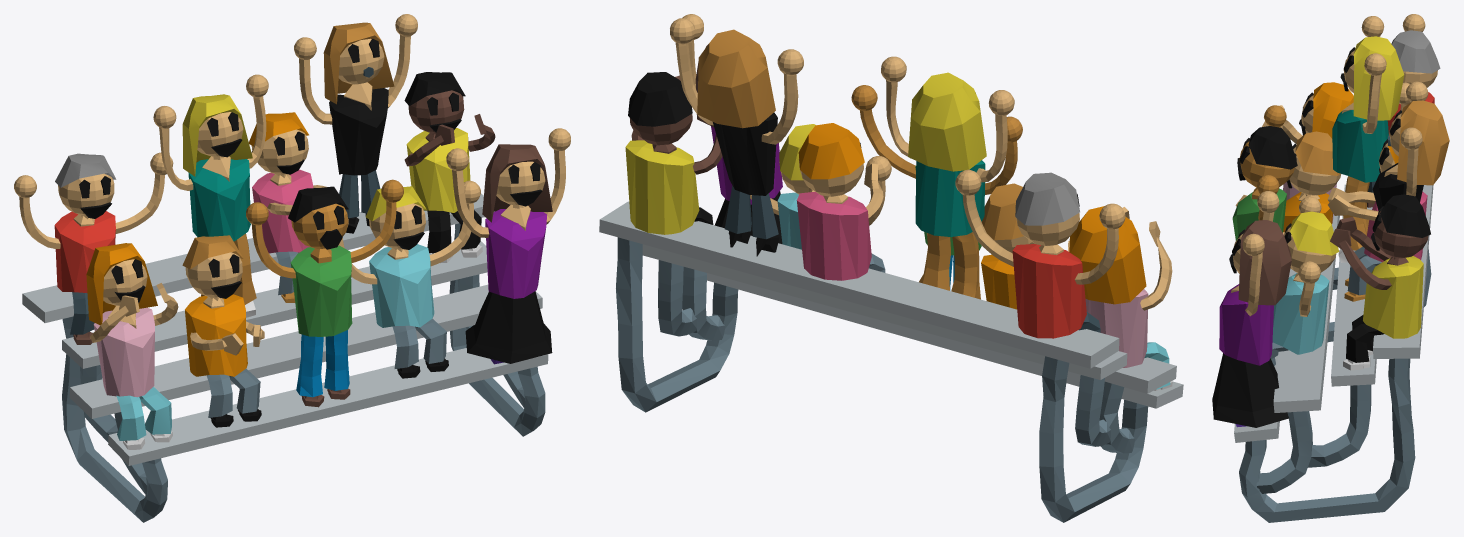
3 views of the same model, side by side, from view 1: azimuth 30°, elevation 25°; view 2: azimuth 150°, elevation 25°; view 3: azimuth 270°, elevation 25° (orthographic). The views are drawn at different scales.
Visible parts, largest first — view 1: node_MeshObject2046078976-PolyPaper21, node_MeshObject910668800-PolyPaper18; view 2: node_MeshObject2046078976-PolyPaper21, node_MeshObject910668800-PolyPaper18; view 3: node_MeshObject2046078976-PolyPaper21, node_MeshObject910668800-PolyPaper18.
Part boxes in pixels (x1,y1,x2,y2): node_MeshObject2046078976-PolyPaper21: [14, 22, 548, 522]; node_MeshObject910668800-PolyPaper18: [62, 14, 570, 449]; node_MeshObject2046078976-PolyPaper21: [599, 29, 1183, 522]; node_MeshObject910668800-PolyPaper18: [616, 14, 1172, 412]; node_MeshObject2046078976-PolyPaper21: [1232, 14, 1449, 467]; node_MeshObject910668800-PolyPaper18: [1212, 82, 1430, 522].
Size of the model in its own units: 0.4697 by 0.3634 by 0.2088.
